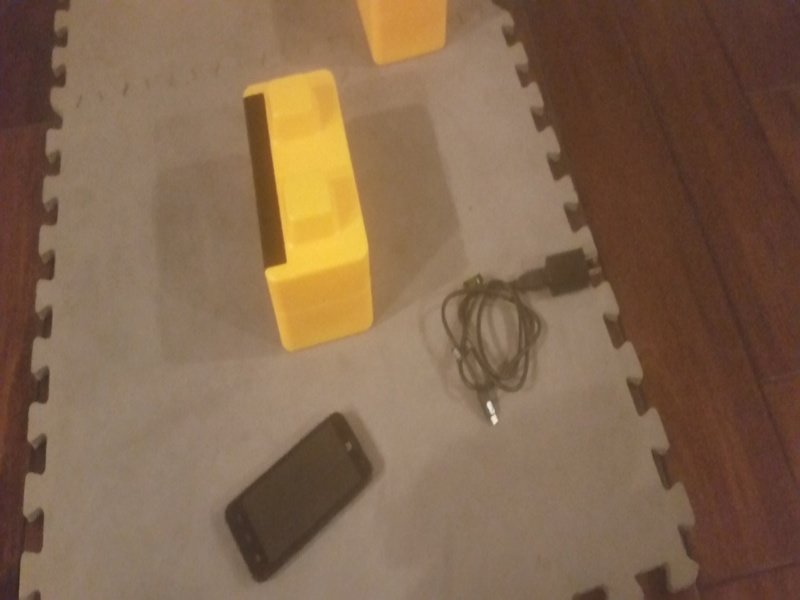Skystone: (241, 66, 383, 355)
